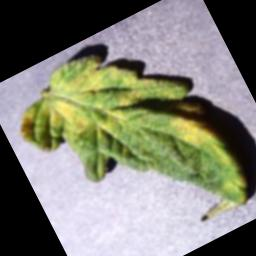Leaf_Mold: (1, 13, 255, 256)
